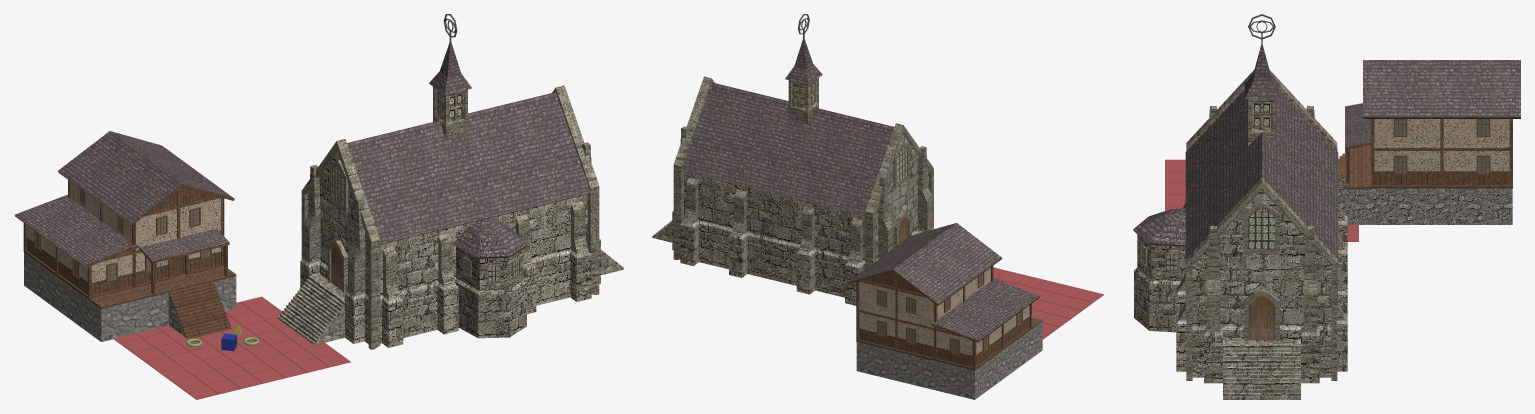
Rendered from level.gltf.
3 renders of one model, left to right at view 1: azimuth 30°, elevation 25°; view 2: azimuth 150°, elevation 25°; view 3: azimuth 270°, elevation 25°, orthographic. The views are drawn at different scales.
Visible parts, largest first — view 1: Cathedral01, House02, Floor, CathedralAddon; view 2: Cathedral01, House02, Floor; view 3: Cathedral01, House02, CathedralAddon, Floor.
Boxes of the visible parts, x1=… form: Cathedral01: x1=277, y1=14, x2=623, y2=349; House02: x1=14, y1=131, x2=236, y2=341; Floor: x1=114, y1=296, x2=350, y2=399; CathedralAddon: x1=452, y1=218, x2=527, y2=338; Cathedral01: x1=652, y1=14, x2=933, y2=305; House02: x1=847, y1=223, x2=1042, y2=399; Floor: x1=993, y1=267, x2=1103, y2=339; Cathedral01: x1=1176, y1=14, x2=1347, y2=399; House02: x1=1338, y1=60, x2=1520, y2=224; CathedralAddon: x1=1133, y1=208, x2=1185, y2=332; Floor: x1=1165, y1=159, x2=1358, y2=241.
Bounding box in the file's own units: 42.75 × 24.4 × 28.01.
16 materials, 16 textured.
